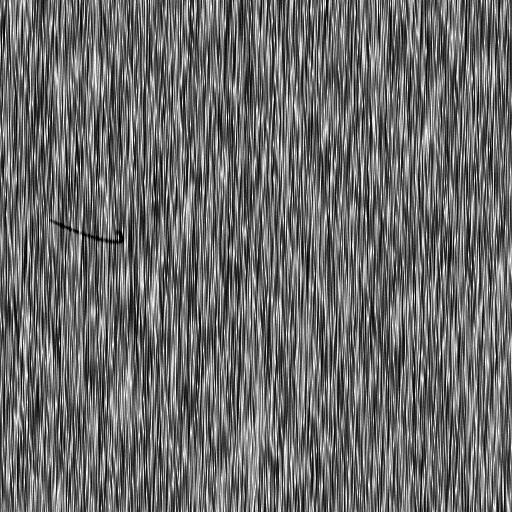DefectTypeC: (49, 218, 124, 244)
